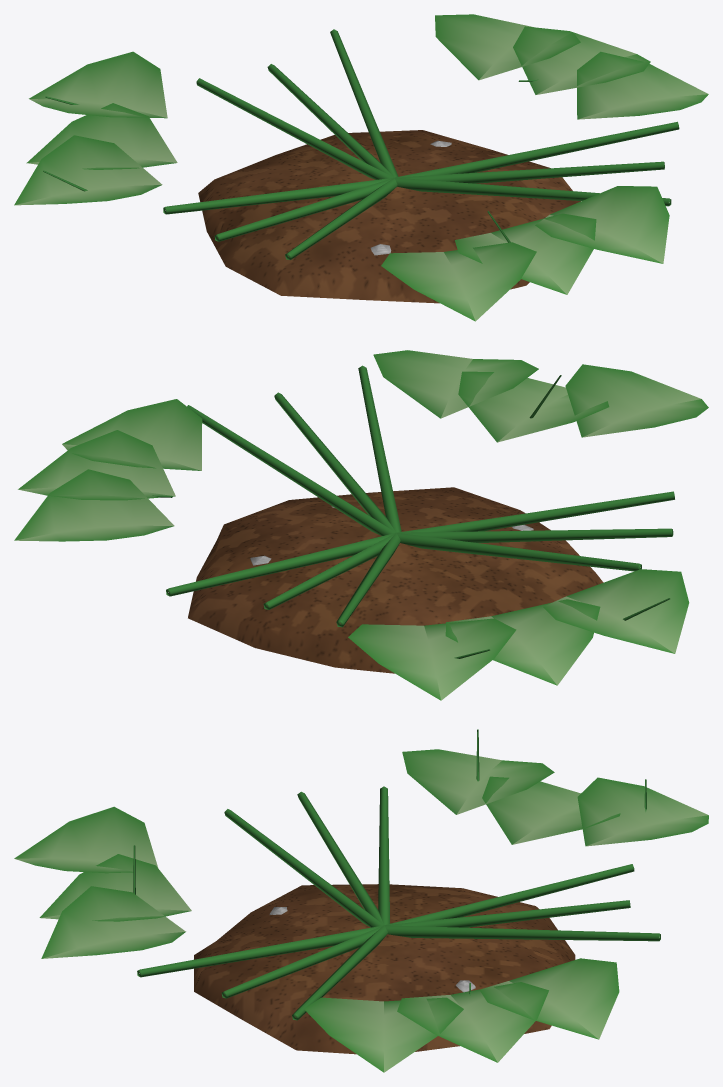
File: plant-watermelon-3.glb
3 renders of one model, top to bottom at view 1: azimuth 30°, elevation 25°; view 2: azimuth 150°, elevation 25°; view 3: azimuth 270°, elevation 25°, orthographic. The views are drawn at different scales.
Visible parts, largest first — view 1: plant-watermelon-3; view 2: plant-watermelon-3; view 3: plant-watermelon-3.
Boxes of the visible parts, left/top/right/bottom form: plant-watermelon-3: left=14, top=14, right=708, bottom=321; plant-watermelon-3: left=14, top=350, right=708, bottom=700; plant-watermelon-3: left=14, top=729, right=708, bottom=1072.
Size of the model in its own units: 1.58 by 0.2686 by 1.49.
4 materials, 2 textured.
